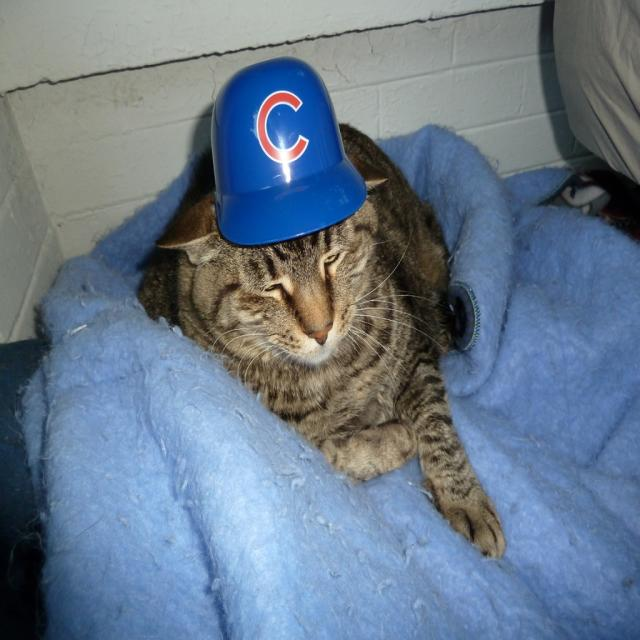Cat: (141, 120, 505, 556)
